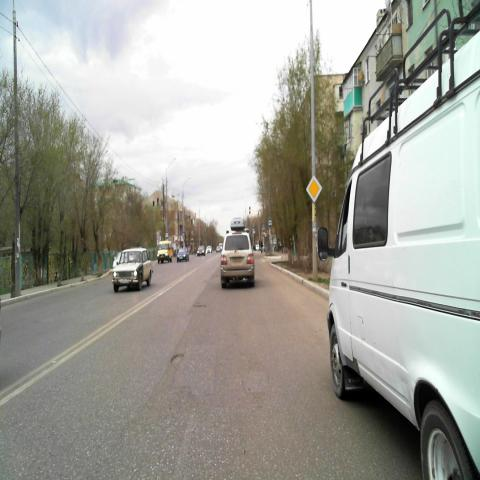2_1: (306, 174, 322, 202)
